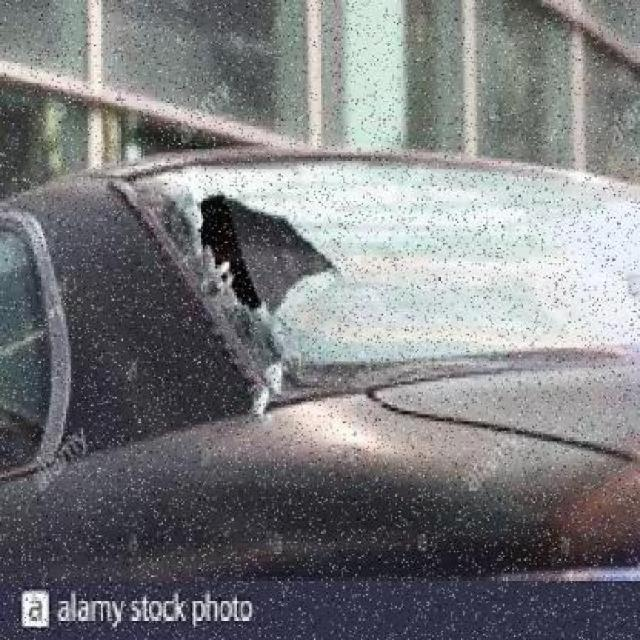Rear-windscreen-Damage: (88, 120, 638, 436)
